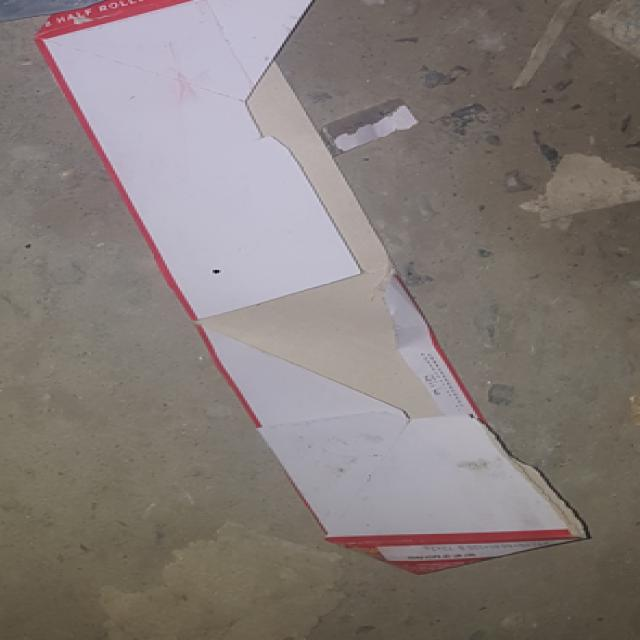electronic: (194, 270, 592, 574), (518, 151, 638, 225), (325, 101, 419, 152)
